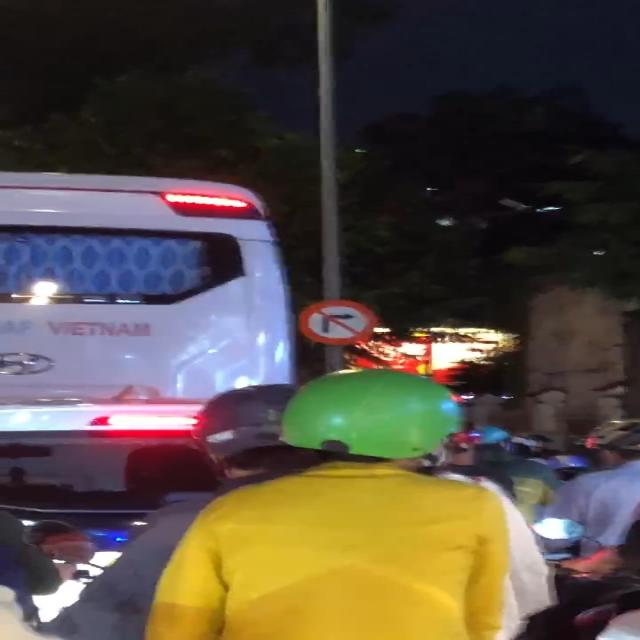Bien bao cam re phai: (297, 296, 384, 352)
